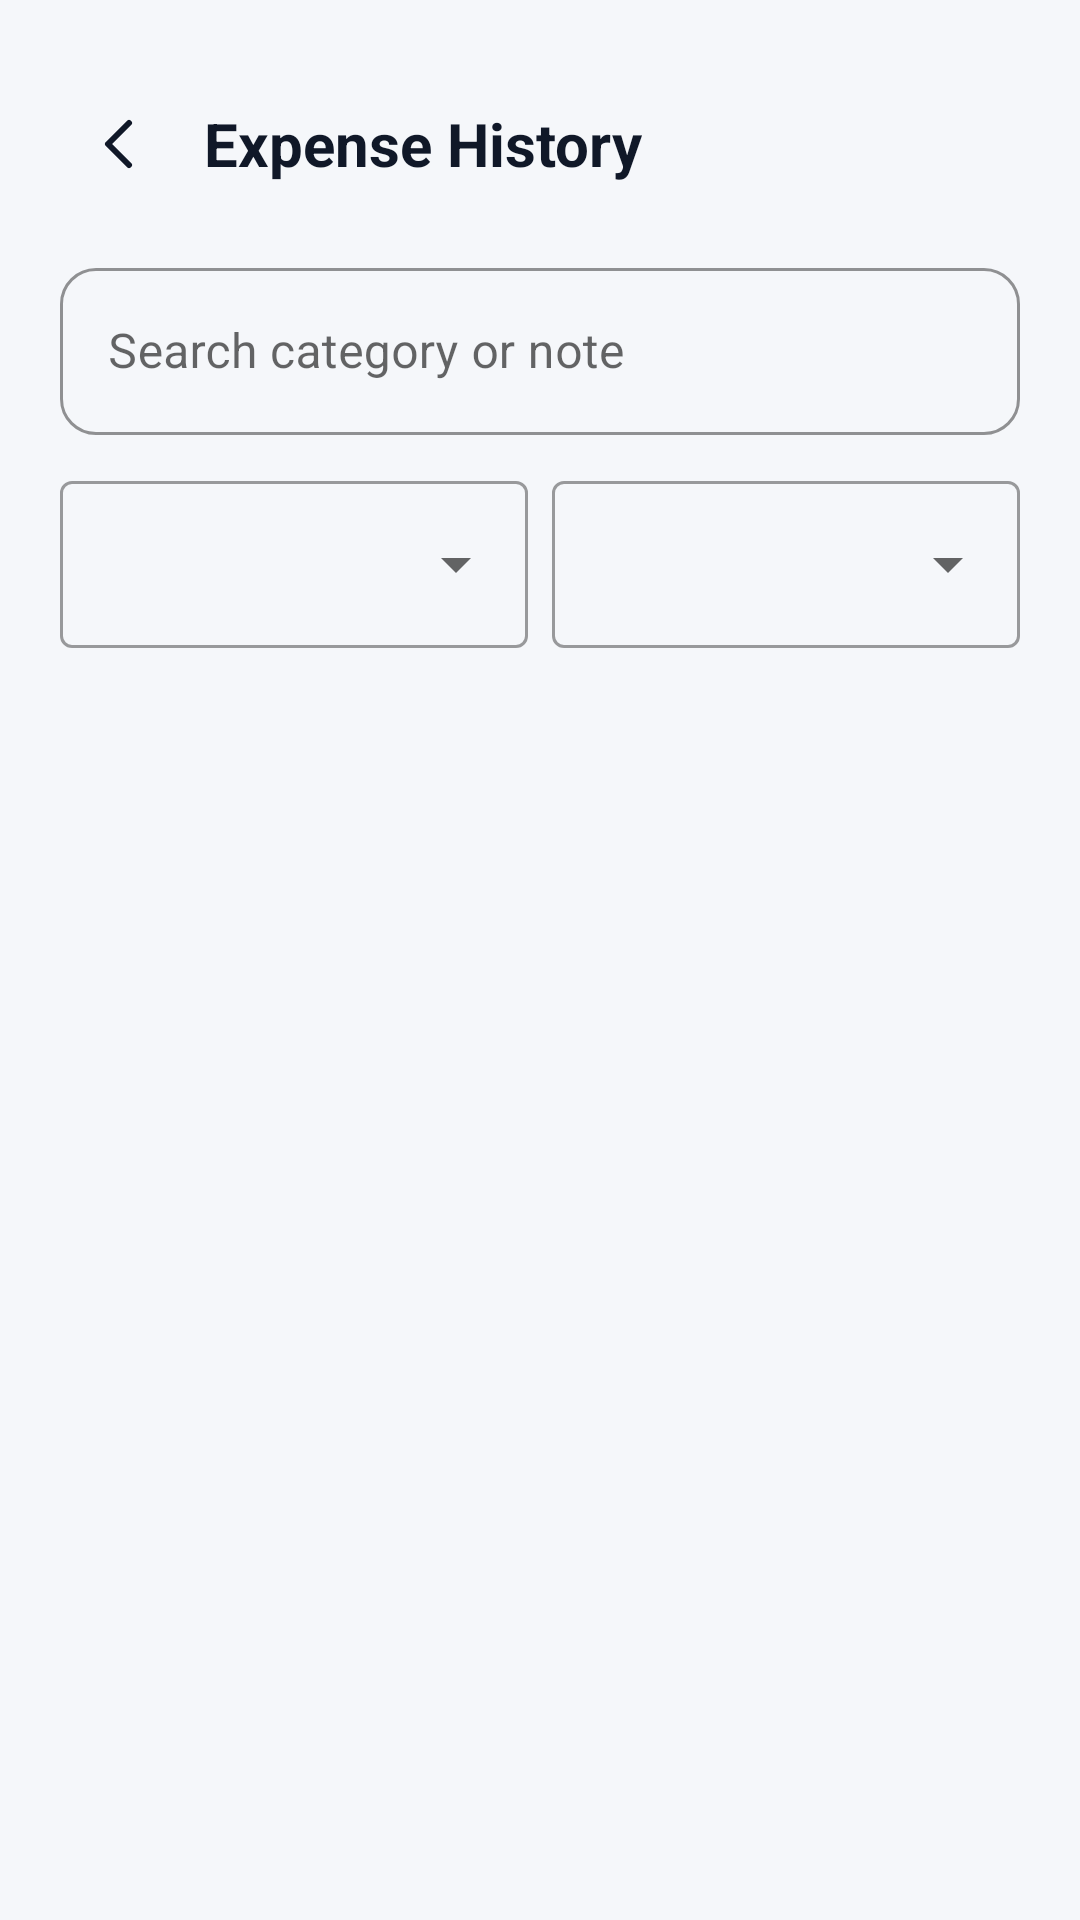

Where icons sit on this 1080x1920 app screen, as (left=x1, top=y1, right=x2, bottom=y2):
Back to Login: (left=105, top=120, right=132, bottom=168)
